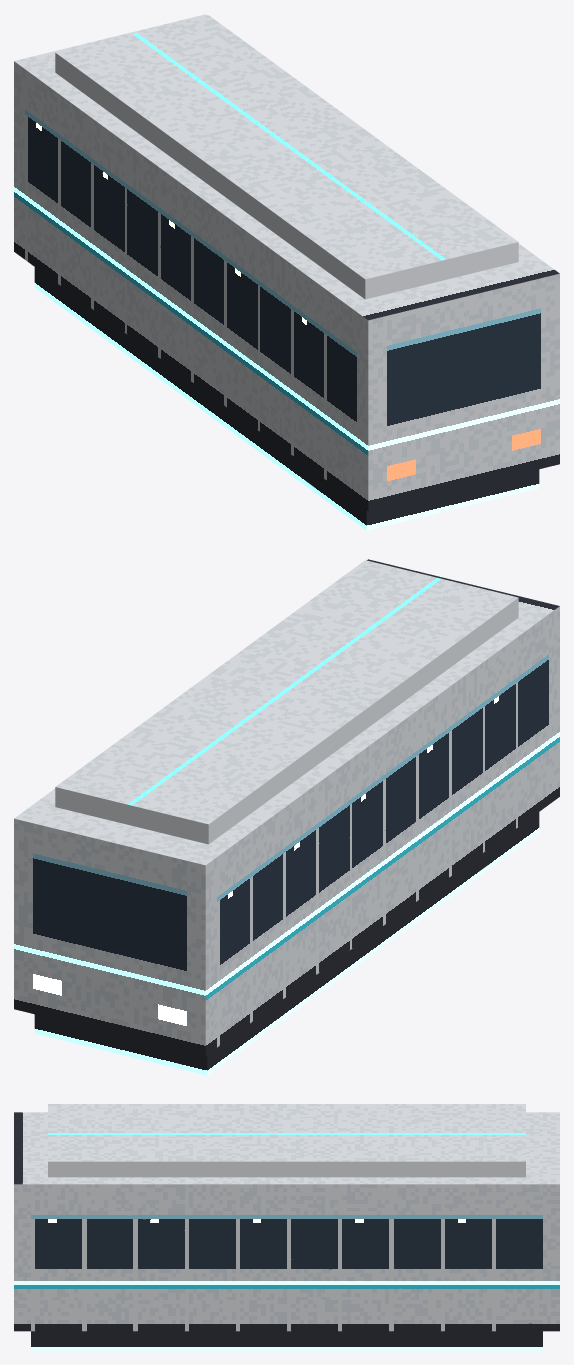
File: tram.glb
3 views of the same model, one above another, from view 1: azimuth 30°, elevation 25°; view 2: azimuth 150°, elevation 25°; view 3: azimuth 270°, elevation 25° (orthographic). The views are drawn at different scales.
Visible parts, largest first — view 1: tram_car, tram_roof, tram_skirt; view 2: tram_car, tram_roof, tram_skirt; view 3: tram_car, tram_roof, tram_skirt.
Boxes of the visible parts, <box> form: tram_car: <box>14,14,559,510</box>; tram_roof: <box>55,15,518,299</box>; tram_skirt: <box>34,267,539,530</box>; tram_car: <box>14,559,559,1055</box>; tram_roof: <box>55,560,518,844</box>; tram_skirt: <box>34,812,539,1075</box>; tram_car: <box>14,1112,559,1331</box>; tram_roof: <box>48,1104,525,1177</box>; tram_skirt: <box>31,1331,542,1350</box>.
Size of the model in its own units: 2.5 by 3 by 8.
1 material, 1 textured.
